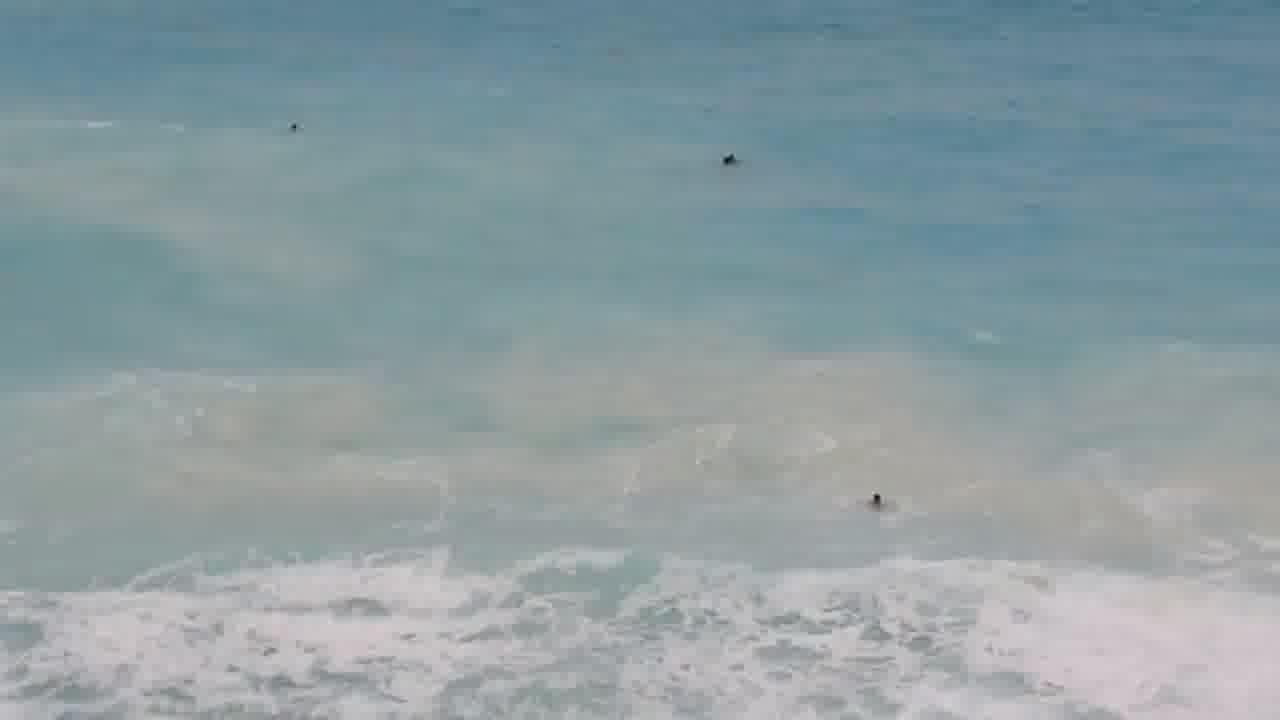swimmer: (706, 140, 745, 190), (859, 477, 897, 520), (280, 115, 312, 144)
